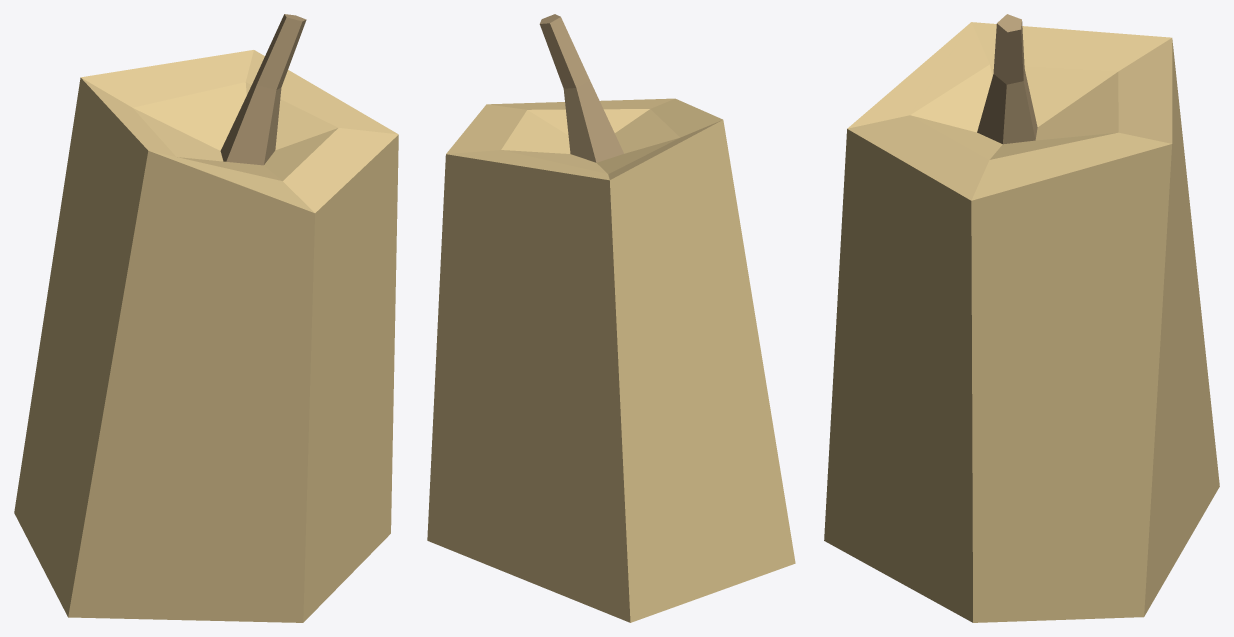
File: SM_SM_Candle_04.fbx
3 renders of one model, left to right at view 1: azimuth 30°, elevation 25°; view 2: azimuth 150°, elevation 25°; view 3: azimuth 270°, elevation 25°, orthographic. The views are drawn at different scales.
Visible parts, largest first — view 1: SM_Candle_04; view 2: SM_Candle_04; view 3: SM_Candle_04.
Part boxes in pixels (x1,y1,x2,y2): SM_Candle_04: (14,14,398,622); SM_Candle_04: (427,14,795,622); SM_Candle_04: (824,14,1219,622).
Bounding box in the file's own units: 15.64 × 24.19 × 15.24.
